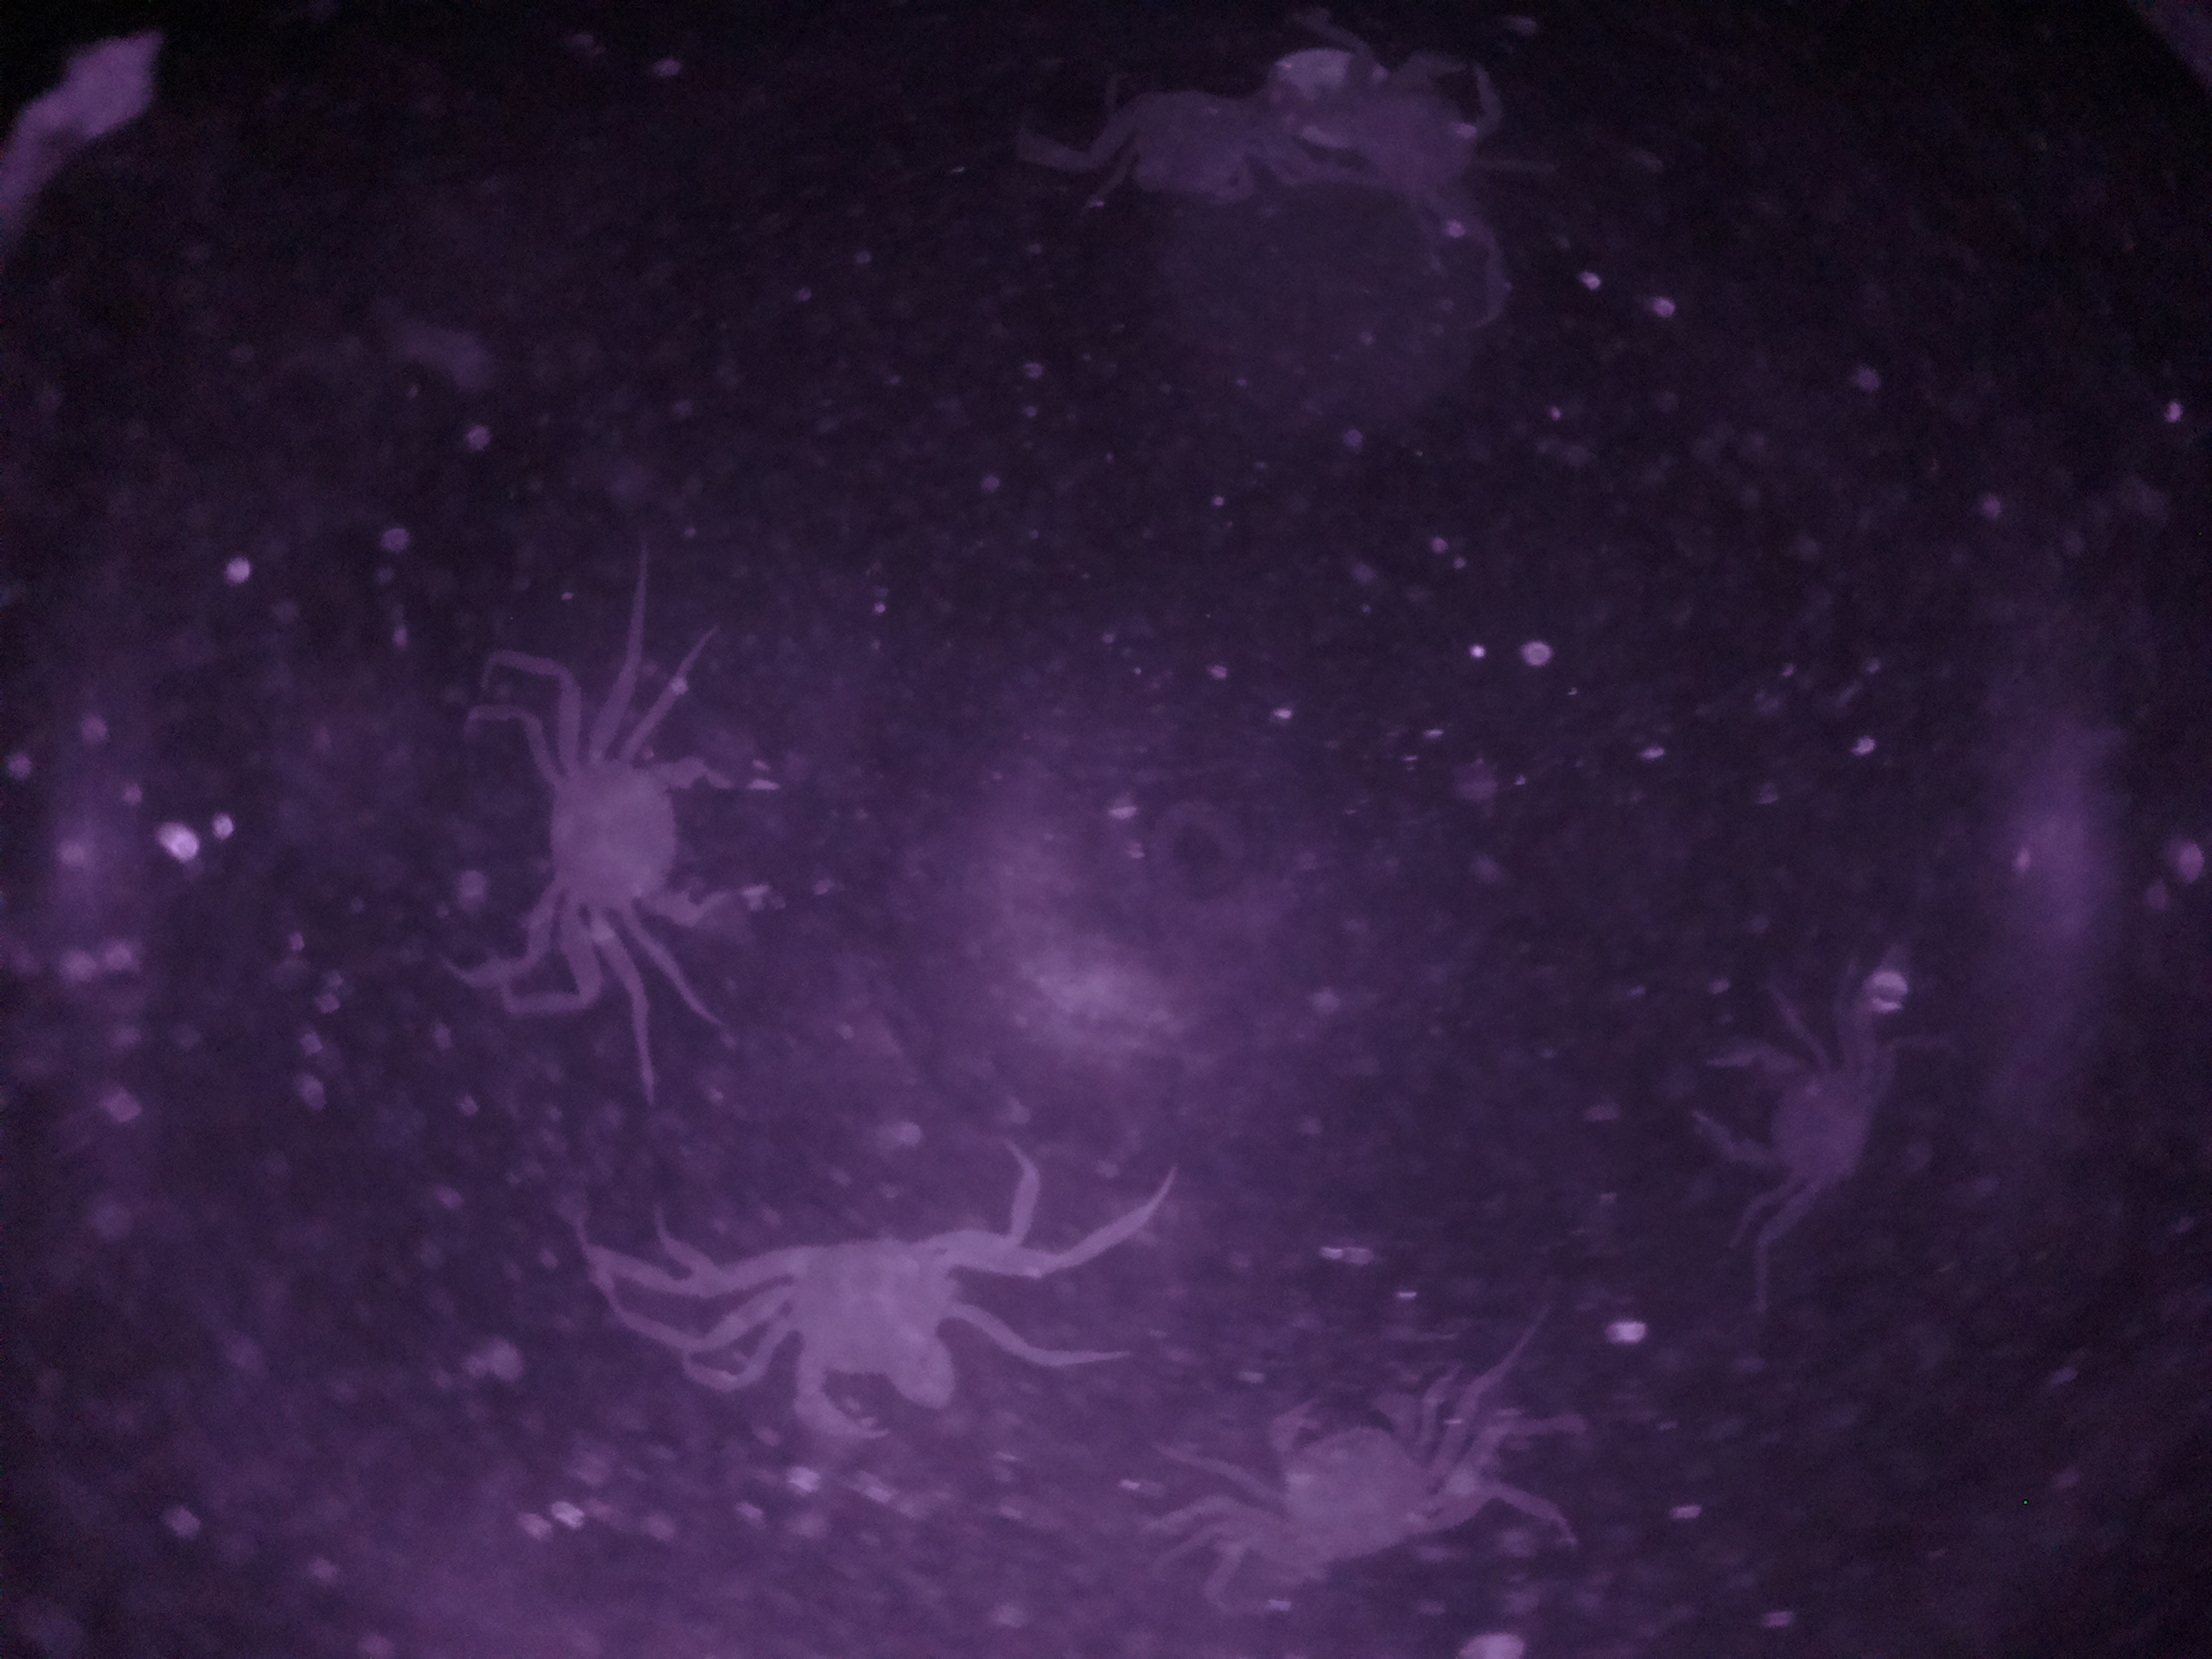Crab: (495, 718, 827, 967), (1662, 1004, 1911, 1225), (1221, 1368, 1474, 1584)
